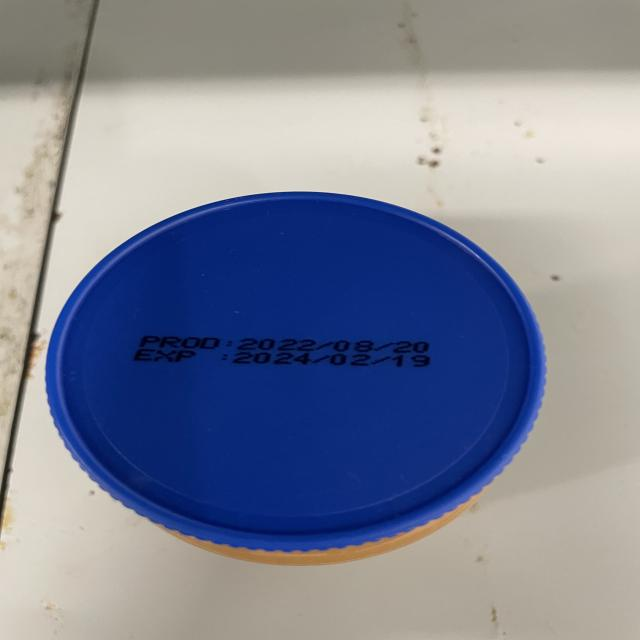object_name: (57, 191, 562, 567)
